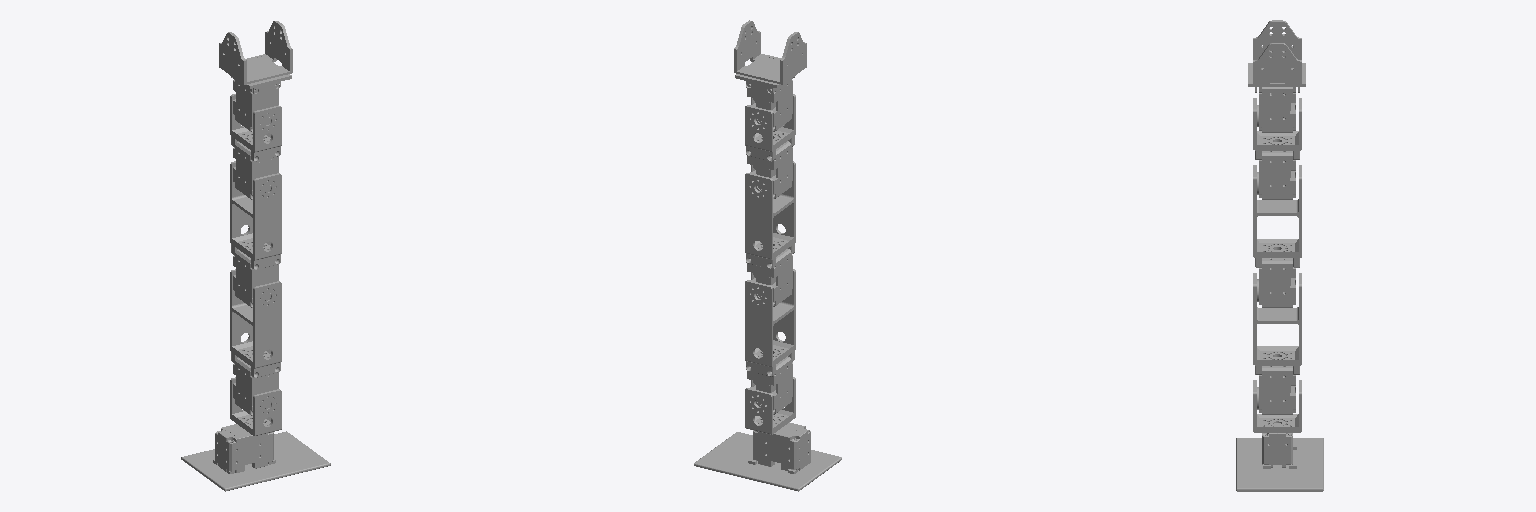
robot.urdf — brazo1:
<?xml version="1.0" ?>
<robot name="brazo1">

  <mujoco>
    <compiler meshdir="../meshes/" balanceinertia="true" discardvisual="false"/>
  </mujoco>

  <material name="silver">
    <color rgba="0.700 0.700 0.700 1.000"/>
  </material>

  <link name="base_link">
    <inertial>
      <origin xyz="-0.00011991811279893809 -5.093370845094053e-12 0.001556381658005178" rpy="0 0 0"/>
      <mass value="0.02773810830156498"/>
      <inertia ixx="1.4e-05" iyy="2.8e-05" izz="4.2e-05" ixy="-0.0" iyz="0.0" ixz="0.0"/>
    </inertial>
    <visual>
      <origin xyz="0 0 0" rpy="0 0 0"/>
      <geometry>
        <mesh filename="../meshes/base_link.stl" scale="0.001 0.001 0.001"/>
      </geometry>
      <material name="silver"/>
    </visual>
    <collision>
      <origin xyz="0 0 0" rpy="0 0 0"/>
      <geometry>
        <mesh filename="../meshes/base_link.stl" scale="0.001 0.001 0.001"/>
      </geometry>
    </collision>
  </link>

  <link name="servo_base_1">
    <inertial>
      <origin xyz="0.01884530361992569 0.00887644594470139 0.015321977530133833" rpy="0 0 0"/>
      <mass value="0.11073237060446267"/>
      <inertia ixx="1.7e-05" iyy="3e-05" izz="2.7e-05" ixy="-0.0" iyz="-0.0" ixz="-1e-06"/>
    </inertial>
    <visual>
      <origin xyz="0.032 0.011 -0.0059" rpy="0 0 0"/>
      <geometry>
        <mesh filename="../meshes/servo_base_1.stl" scale="0.001 0.001 0.001"/>
      </geometry>
      <material name="silver"/>
    </visual>
    <collision>
      <origin xyz="0.032 0.011 -0.0059" rpy="0 0 0"/>
      <geometry>
        <mesh filename="../meshes/servo_base_1.stl" scale="0.001 0.001 0.001"/>
      </geometry>
    </collision>
  </link>

  <link name="hombro_1">
    <inertial>
      <origin xyz="-1.2244676667744203e-07 4.5020142357002704e-07 0.013416963422075212" rpy="0 0 0"/>
      <mass value="0.009658212401008478"/>
      <inertia ixx="5e-06" iyy="2e-06" izz="4e-06" ixy="0.0" iyz="0.0" ixz="0.0"/>
    </inertial>
    <visual>
      <origin xyz="0.001206 0.002133 -0.0391" rpy="0 0 0"/>
      <geometry>
        <mesh filename="../meshes/hombro_1.stl" scale="0.001 0.001 0.001"/>
      </geometry>
      <material name="silver"/>
    </visual>
    <collision>
      <origin xyz="0.001206 0.002133 -0.0391" rpy="0 0 0"/>
      <geometry>
        <mesh filename="../meshes/hombro_1.stl" scale="0.001 0.001 0.001"/>
      </geometry>
    </collision>
  </link>

  <link name="servo_hombro_1">
    <inertial>
      <origin xyz="8.873296505409155e-06 0.017878472671292236 0.011948573933304327" rpy="0 0 0"/>
      <mass value="0.11073237060446267"/>
      <inertia ixx="3e-05" iyy="2.7e-05" izz="1.7e-05" ixy="0.0" iyz="-1e-06" ixz="0.0"/>
    </inertial>
    <visual>
      <origin xyz="0.001206 0.021133 -0.0671" rpy="0 0 0"/>
      <geometry>
        <mesh filename="../meshes/servo_hombro_1.stl" scale="0.001 0.001 0.001"/>
      </geometry>
      <material name="silver"/>
    </visual>
    <collision>
      <origin xyz="0.001206 0.021133 -0.0671" rpy="0 0 0"/>
      <geometry>
        <mesh filename="../meshes/servo_hombro_1.stl" scale="0.001 0.001 0.001"/>
      </geometry>
    </collision>
  </link>

  <link name="codo1_1">
    <inertial>
      <origin xyz="-0.011000122446849003 -0.014199549796443282 0.03710003743924245" rpy="0 0 0"/>
      <mass value="0.022482239588632037"/>
      <inertia ixx="2.1e-05" iyy="1.6e-05" izz="9e-06" ixy="0.0" iyz="0.0" ixz="-0.0"/>
    </inertial>
    <visual>
      <origin xyz="-0.009794 -0.012067 -0.0991" rpy="0 0 0"/>
      <geometry>
        <mesh filename="../meshes/codo1_1.stl" scale="0.001 0.001 0.001"/>
      </geometry>
      <material name="silver"/>
    </visual>
    <collision>
      <origin xyz="-0.009794 -0.012067 -0.0991" rpy="0 0 0"/>
      <geometry>
        <mesh filename="../meshes/codo1_1.stl" scale="0.001 0.001 0.001"/>
      </geometry>
    </collision>
  </link>

  <link name="servo_codo1_1">
    <inertial>
      <origin xyz="8.873296505396795e-06 0.017878472671292264 0.011948573933304313" rpy="0 0 0"/>
      <mass value="0.11073237060446267"/>
      <inertia ixx="3e-05" iyy="2.7e-05" izz="1.7e-05" ixy="0.0" iyz="-1e-06" ixz="0.0"/>
    </inertial>
    <visual>
      <origin xyz="0.001206 0.021133 -0.1741" rpy="0 0 0"/>
      <geometry>
        <mesh filename="../meshes/servo_codo1_1.stl" scale="0.001 0.001 0.001"/>
      </geometry>
      <material name="silver"/>
    </visual>
    <collision>
      <origin xyz="0.001206 0.021133 -0.1741" rpy="0 0 0"/>
      <geometry>
        <mesh filename="../meshes/servo_codo1_1.stl" scale="0.001 0.001 0.001"/>
      </geometry>
    </collision>
  </link>

  <link name="codo2_1">
    <inertial>
      <origin xyz="-0.011000122446849041 -0.014199549796443264 0.037100037439242534" rpy="0 0 0"/>
      <mass value="0.02248223958863206"/>
      <inertia ixx="2.1e-05" iyy="1.6e-05" izz="9e-06" ixy="0.0" iyz="0.0" ixz="-0.0"/>
    </inertial>
    <visual>
      <origin xyz="-0.009794 -0.012067 -0.2061" rpy="0 0 0"/>
      <geometry>
        <mesh filename="../meshes/codo2_1.stl" scale="0.001 0.001 0.001"/>
      </geometry>
      <material name="silver"/>
    </visual>
    <collision>
      <origin xyz="-0.009794 -0.012067 -0.2061" rpy="0 0 0"/>
      <geometry>
        <mesh filename="../meshes/codo2_1.stl" scale="0.001 0.001 0.001"/>
      </geometry>
    </collision>
  </link>

  <link name="servo_codo2_1">
    <inertial>
      <origin xyz="8.873296505272328e-06 0.01787847267129226 0.011948573933304452" rpy="0 0 0"/>
      <mass value="0.11073237060446267"/>
      <inertia ixx="3e-05" iyy="2.7e-05" izz="1.7e-05" ixy="0.0" iyz="-1e-06" ixz="0.0"/>
    </inertial>
    <visual>
      <origin xyz="0.001206 0.021133 -0.2811" rpy="0 0 0"/>
      <geometry>
        <mesh filename="../meshes/servo_codo2_1.stl" scale="0.001 0.001 0.001"/>
      </geometry>
      <material name="silver"/>
    </visual>
    <collision>
      <origin xyz="0.001206 0.021133 -0.2811" rpy="0 0 0"/>
      <geometry>
        <mesh filename="../meshes/servo_codo2_1.stl" scale="0.001 0.001 0.001"/>
      </geometry>
    </collision>
  </link>

  <link name="muneca_1">
    <inertial>
      <origin xyz="-0.011000122446747808 -0.014199549798606957 0.015311885482131193" rpy="0 0 0"/>
      <mass value="0.014903690357992803"/>
      <inertia ixx="7e-06" iyy="4e-06" izz="5e-06" ixy="0.0" iyz="-0.0" ixz="0.0"/>
    </inertial>
    <visual>
      <origin xyz="-0.009794 -0.012067 -0.3131" rpy="0 0 0"/>
      <geometry>
        <mesh filename="../meshes/muneca_1.stl" scale="0.001 0.001 0.001"/>
      </geometry>
      <material name="silver"/>
    </visual>
    <collision>
      <origin xyz="-0.009794 -0.012067 -0.3131" rpy="0 0 0"/>
      <geometry>
        <mesh filename="../meshes/muneca_1.stl" scale="0.001 0.001 0.001"/>
      </geometry>
    </collision>
  </link>

  <link name="servo_muneca_1">
    <inertial>
      <origin xyz="8.873296504273561e-06 0.0178784726712921 0.01194857393330373" rpy="0 0 0"/>
      <mass value="0.11073237060446267"/>
      <inertia ixx="3e-05" iyy="2.7e-05" izz="1.7e-05" ixy="0.0" iyz="-1e-06" ixz="0.0"/>
    </inertial>
    <visual>
      <origin xyz="0.001206 0.021133 -0.3481" rpy="0 0 0"/>
      <geometry>
        <mesh filename="../meshes/servo_muneca_1.stl" scale="0.001 0.001 0.001"/>
      </geometry>
      <material name="silver"/>
    </visual>
    <collision>
      <origin xyz="0.001206 0.021133 -0.3481" rpy="0 0 0"/>
      <geometry>
        <mesh filename="../meshes/servo_muneca_1.stl" scale="0.001 0.001 0.001"/>
      </geometry>
    </collision>
  </link>

  <link name="garra_1">
    <inertial>
      <origin xyz="0.010667940105435869 0.014030699687172974 0.016385147594230376" rpy="0 0 0"/>
      <mass value="0.021727709860775293"/>
      <inertia ixx="7e-06" iyy="1e-05" izz="1.1e-05" ixy="0.0" iyz="-0.0" ixz="-0.0"/>
    </inertial>
    <visual>
      <origin xyz="0.012206 0.016333 -0.3801" rpy="0 0 0"/>
      <geometry>
        <mesh filename="../meshes/garra_1.stl" scale="0.001 0.001 0.001"/>
      </geometry>
      <material name="silver"/>
    </visual>
    <collision>
      <origin xyz="0.012206 0.016333 -0.3801" rpy="0 0 0"/>
      <geometry>
        <mesh filename="../meshes/garra_1.stl" scale="0.001 0.001 0.001"/>
      </geometry>
    </collision>
  </link>

  <!-- UNIONES (JOINTS) -->
  <joint name="servo_base_joint" type="fixed">
    <origin xyz="-0.032 -0.011 0.0059" rpy="0 0 0"/>
    <parent link="base_link"/>
    <child link="servo_base_1"/>
  </joint>

  <joint name="hombro_yaw_joint" type="revolute">
    <origin xyz="0.030794 0.008867 0.0332" rpy="0 0 0"/>
    <parent link="servo_base_1"/>
    <child link="hombro_1"/>
    <axis xyz="0.0 0.0 1.0"/>
    <limit lower="-3.14159" upper="3.14159" effort="100" velocity="100"/>
  </joint>

  <joint name="hombro_pitch_joint" type="revolute">
    <origin xyz="0.0 -0.019 0.028" rpy="0 0 0"/>
    <parent link="hombro_1"/>
    <child link="servo_hombro_1"/>
    <axis xyz="0.0 1.0 0.0"/>
    <limit lower="-3.14159" upper="3.14159" effort="100" velocity="100"/>
  </joint>

  <joint name="codo1_fixed_joint" type="fixed">
    <origin xyz="0.011 0.0332 0.032" rpy="0 0 0"/>
    <parent link="servo_hombro_1"/>
    <child link="codo1_1"/>
  </joint>

  <joint name="codo1_pitch_joint" type="revolute">
    <origin xyz="-0.011 -0.0332 0.075" rpy="0 0 0"/>
    <parent link="codo1_1"/>
    <child link="servo_codo1_1"/>
    <axis xyz="0.0 1.0 0.0"/>
    <limit lower="-3.14159" upper="3.14159" effort="100" velocity="100"/>
  </joint>

  <joint name="codo2_fixed_joint" type="fixed">
    <origin xyz="0.011 0.0332 0.032" rpy="0 0 0"/>
    <parent link="servo_codo1_1"/>
    <child link="codo2_1"/>
  </joint>

  <joint name="codo2_pitch_joint" type="revolute">
    <origin xyz="-0.011 -0.0332 0.075" rpy="0 0 0"/>
    <parent link="codo2_1"/>
    <child link="servo_codo2_1"/>
    <axis xyz="0.0 1.0 0.0"/>
    <limit lower="-3.14159" upper="3.14159" effort="100" velocity="100"/>
  </joint>

  <joint name="muneca_fixed_joint" type="fixed">
    <origin xyz="0.011 0.0332 0.032" rpy="0 0 0"/>
    <parent link="servo_codo2_1"/>
    <child link="muneca_1"/>
  </joint>

  <joint name="muneca_pitch_joint" type="revolute">
    <origin xyz="-0.011 -0.0332 0.035" rpy="0 0 0"/>
    <parent link="muneca_1"/>
    <child link="servo_muneca_1"/>
    <axis xyz="0.0 1.0 0.0"/>
    <limit lower="-3.14159" upper="3.14159" effort="100" velocity="100"/>
  </joint>

  <joint name="garra_fixed_joint" type="fixed">
    <origin xyz="-0.011 0.0048 0.032" rpy="0 0 0"/>
    <parent link="servo_muneca_1"/>
    <child link="garra_1"/>
  </joint>

</robot>

--- Facts derived from the render (not from the file) ---
The picture shows the robot from 3 angles, left to right: view 1: azimuth 30°, elevation 25°; view 2: azimuth 150°, elevation 25°; view 3: azimuth 270°, elevation 25°; orthographic projection.
Model brazo1 with 11 links and 10 joints (5 revolute, 5 fixed), rooted at base_link, posed every joint at zero.
Links seen in each view (by area): view 1: codo2_1, codo1_1, base_link, garra_1, servo_base_1, muneca_1, hombro_1, servo_codo1_1, servo_hombro_1, servo_codo2_1, servo_muneca_1; view 2: codo2_1, codo1_1, base_link, garra_1, servo_base_1, muneca_1, hombro_1, servo_hombro_1, servo_codo1_1, servo_codo2_1, servo_muneca_1; view 3: base_link, garra_1, codo1_1, codo2_1, servo_codo1_1, servo_hombro_1, servo_codo2_1, servo_muneca_1, muneca_1, hombro_1, servo_base_1.
Link boxes in pixels (x1,y1,x2,y2): codo2_1: (230,161,281,269); codo1_1: (230,269,281,377); base_link: (181,431,330,491); garra_1: (219,21,292,93); servo_base_1: (215,422,273,472); muneca_1: (230,94,281,161); hombro_1: (230,377,281,435); servo_codo1_1: (233,250,278,307); servo_hombro_1: (233,358,278,415); servo_codo2_1: (233,142,278,199); servo_muneca_1: (233,79,278,131); codo2_1: (745,161,795,268); codo1_1: (745,269,795,376); base_link: (694,432,841,491); garra_1: (734,20,806,93); servo_base_1: (753,420,810,470); muneca_1: (745,94,795,161); hombro_1: (745,377,795,434); servo_hombro_1: (747,356,792,414); servo_codo1_1: (747,249,792,306); servo_codo2_1: (747,141,792,198); servo_muneca_1: (747,78,792,131); base_link: (1236,438,1323,491); garra_1: (1248,20,1305,92); codo1_1: (1253,273,1301,374); codo2_1: (1253,165,1301,267); servo_codo1_1: (1257,258,1295,307); servo_hombro_1: (1257,357,1295,414); servo_codo2_1: (1257,142,1295,199); servo_muneca_1: (1257,87,1295,132); muneca_1: (1253,98,1301,159); hombro_1: (1253,380,1301,432); servo_base_1: (1262,423,1292,467).
Size in the robot's own frame: 0.11 by 0.079 by 0.4312 metres.
Meshes: 11 distinct files referenced, 11 mesh visuals loaded (11 binary STL).
